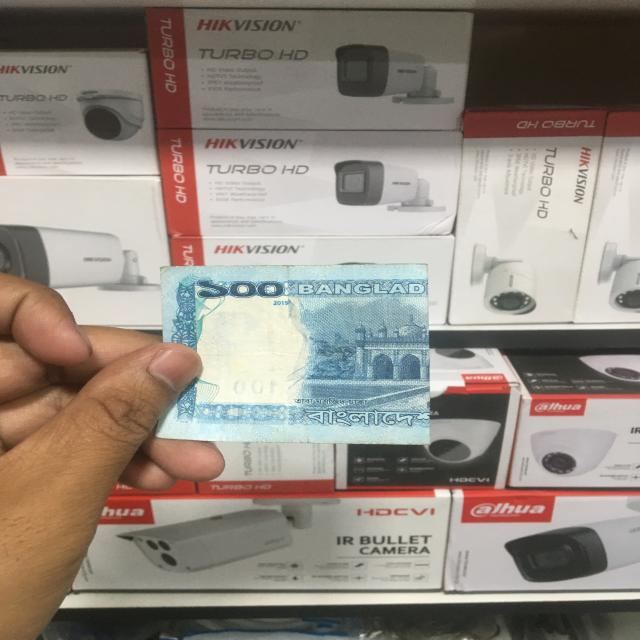Taka: (166, 262, 434, 445)
